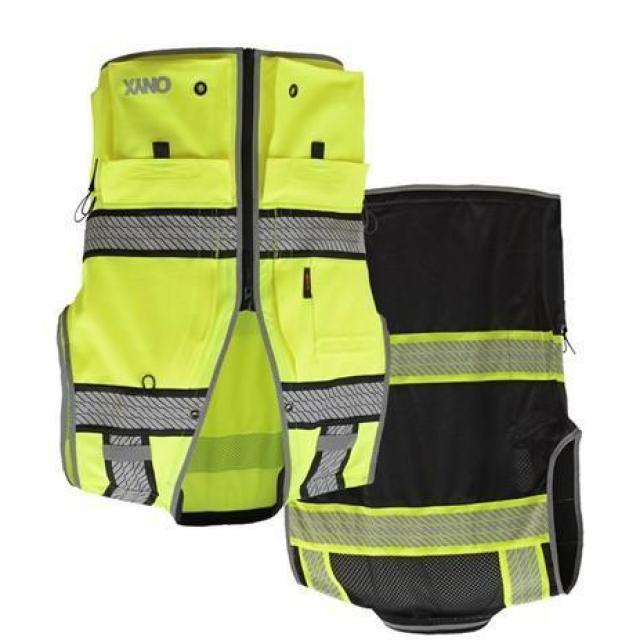jacket: (50, 48, 402, 512)
